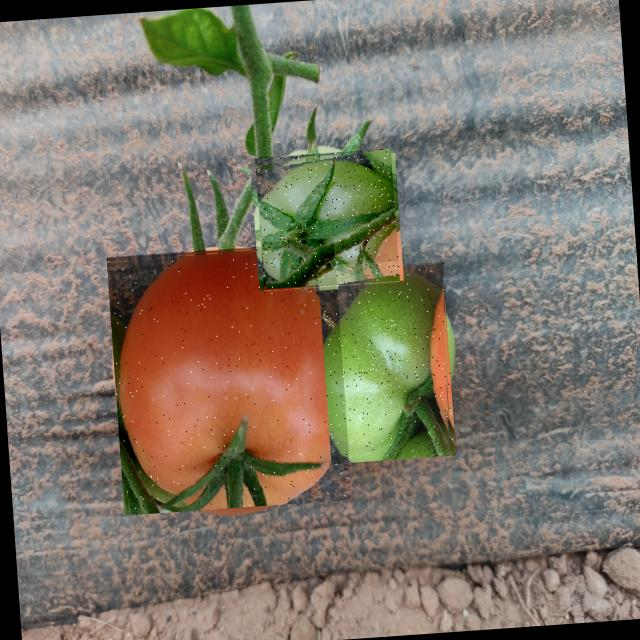Ripe Tomato: (106, 241, 352, 515)
Unripe Tomato: (318, 262, 457, 464), (255, 148, 400, 294)
